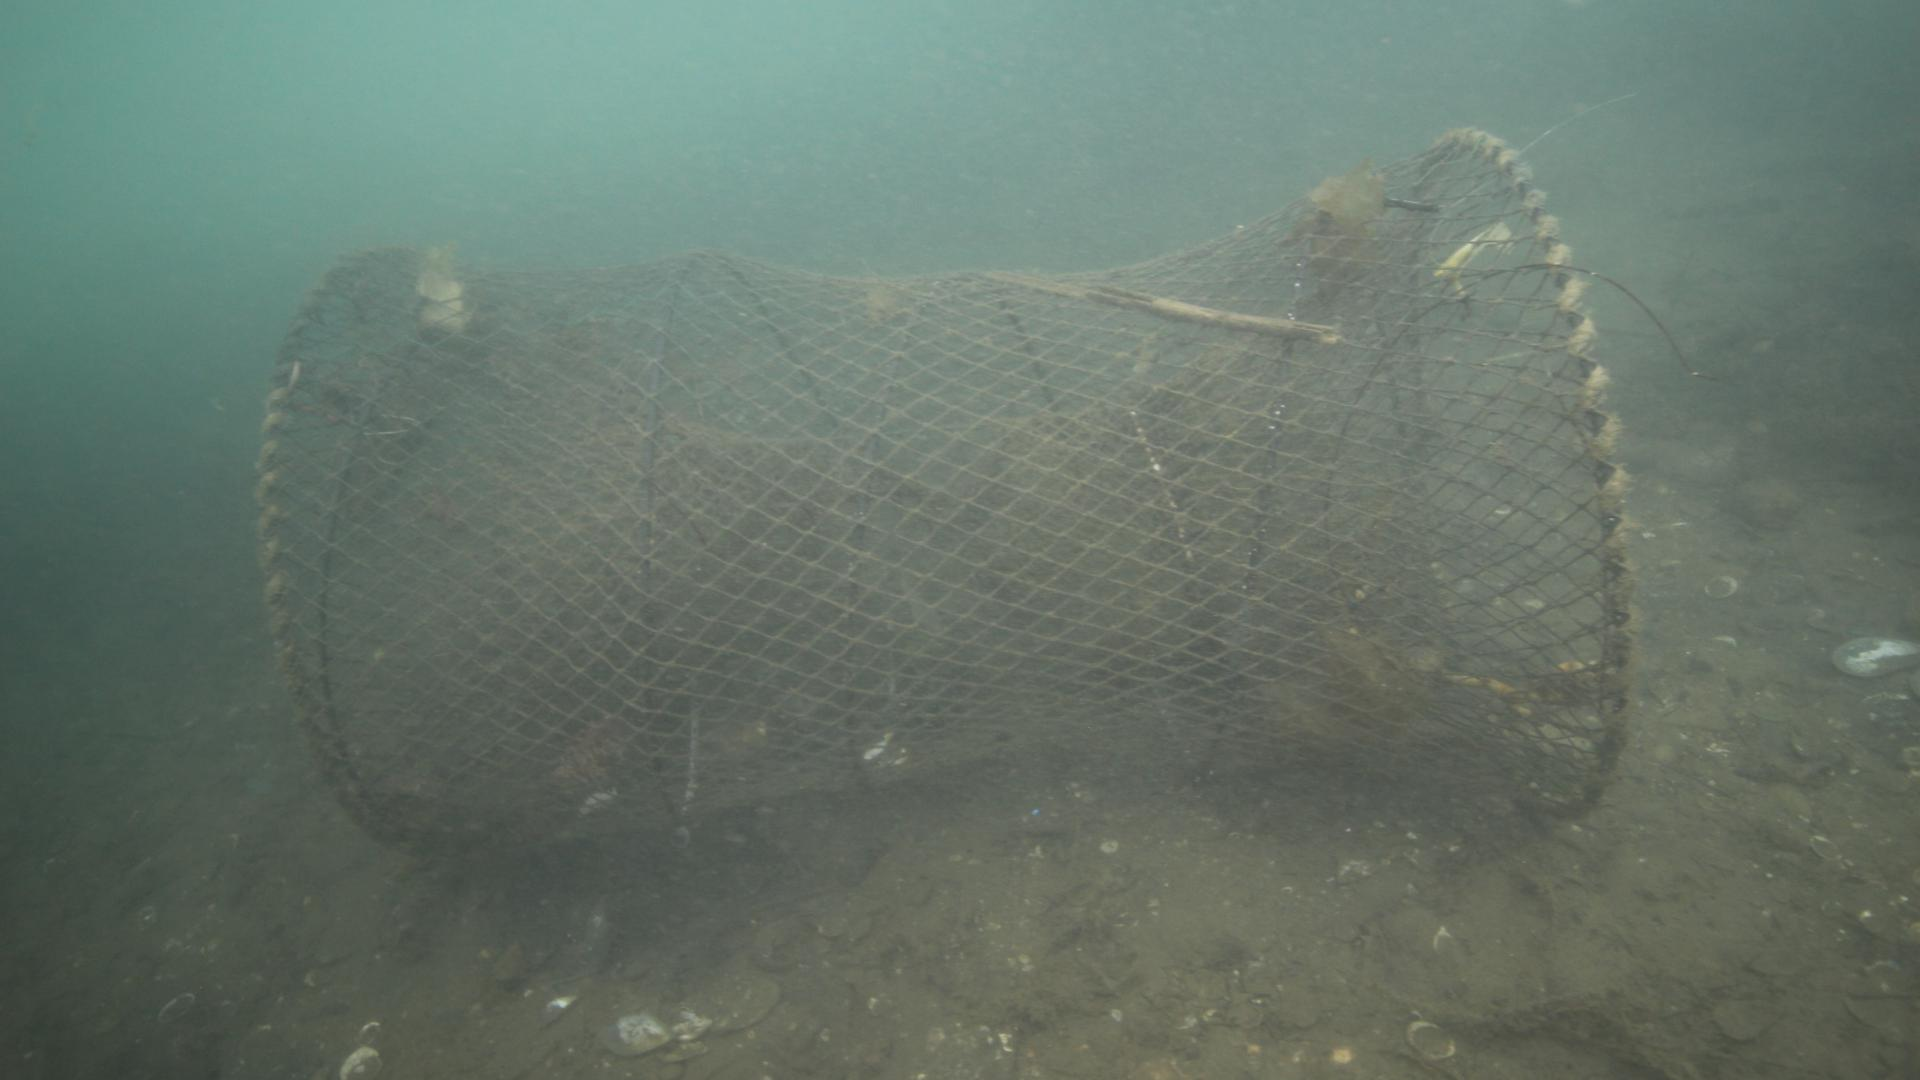spring fish trap: (255, 127, 1636, 839)
